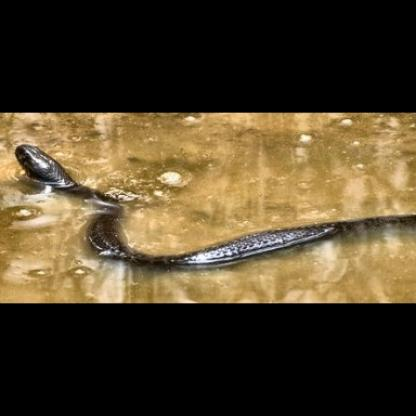Snake: (0, 130, 366, 278)
